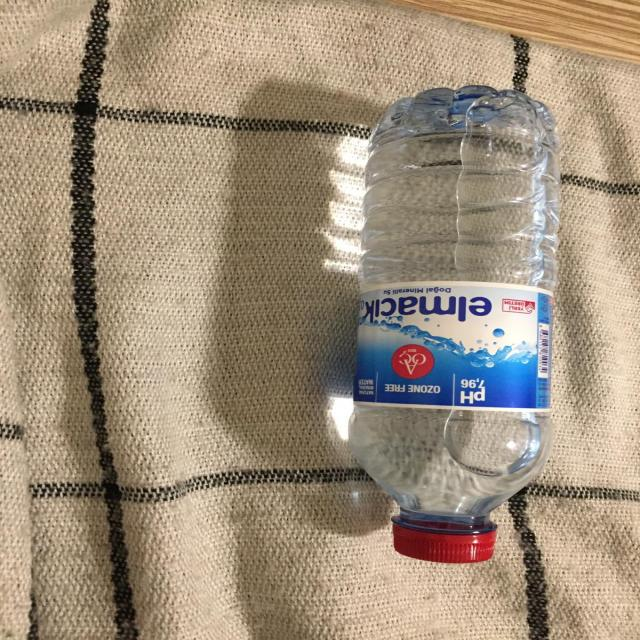bottle: (342, 80, 560, 580)
